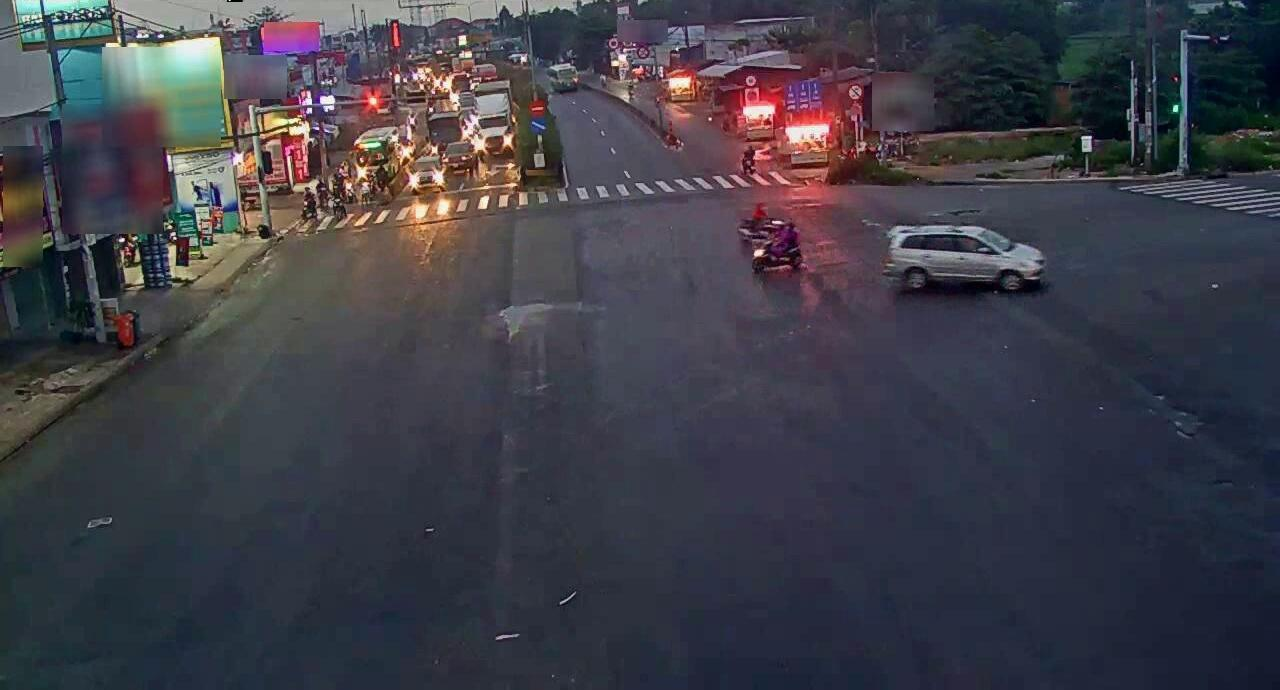xe hoi: (882, 220, 1049, 292)
xe may: (750, 216, 802, 270)
